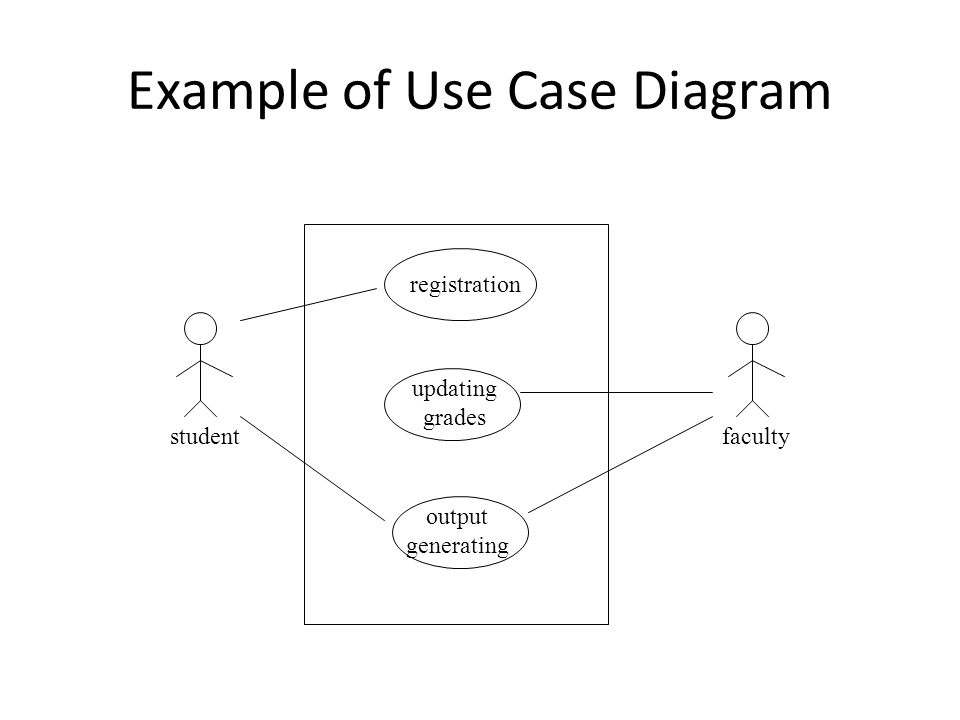actor: (174, 310, 236, 419), (726, 309, 785, 418)
association: (528, 413, 714, 514), (237, 413, 388, 524), (238, 285, 380, 323), (518, 385, 713, 396)
text: (126, 66, 836, 122), (405, 508, 510, 561), (409, 378, 498, 428), (408, 276, 525, 300), (721, 424, 798, 450), (167, 424, 244, 448)
use_case: (384, 247, 539, 323), (382, 367, 523, 444), (390, 494, 531, 570)
